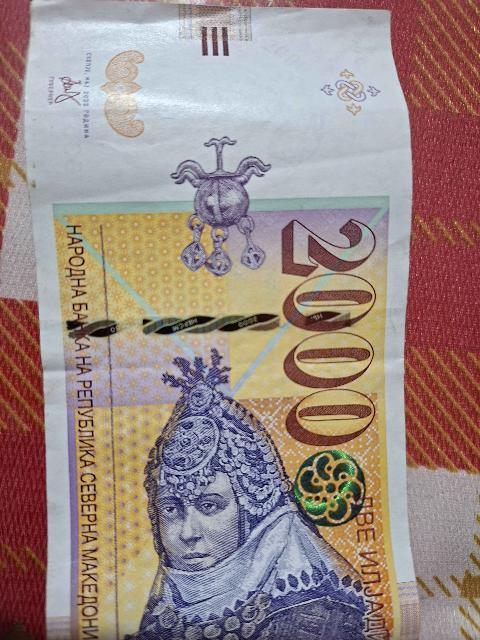2000_note: (25, 0, 418, 639)
